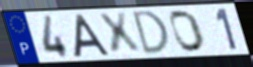1: (213, 7, 239, 53)
4: (42, 14, 68, 60)
A: (72, 12, 113, 59)
D: (131, 9, 172, 57)
O: (169, 9, 207, 54)
X: (95, 11, 144, 57)
